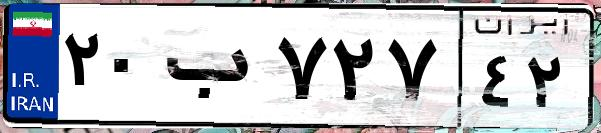0: (110, 28, 158, 98)
2: (330, 28, 385, 110), (57, 26, 110, 100), (525, 38, 570, 115)
4: (475, 38, 525, 113)
7: (270, 28, 330, 110), (385, 28, 445, 110)
ب: (158, 20, 270, 120)
